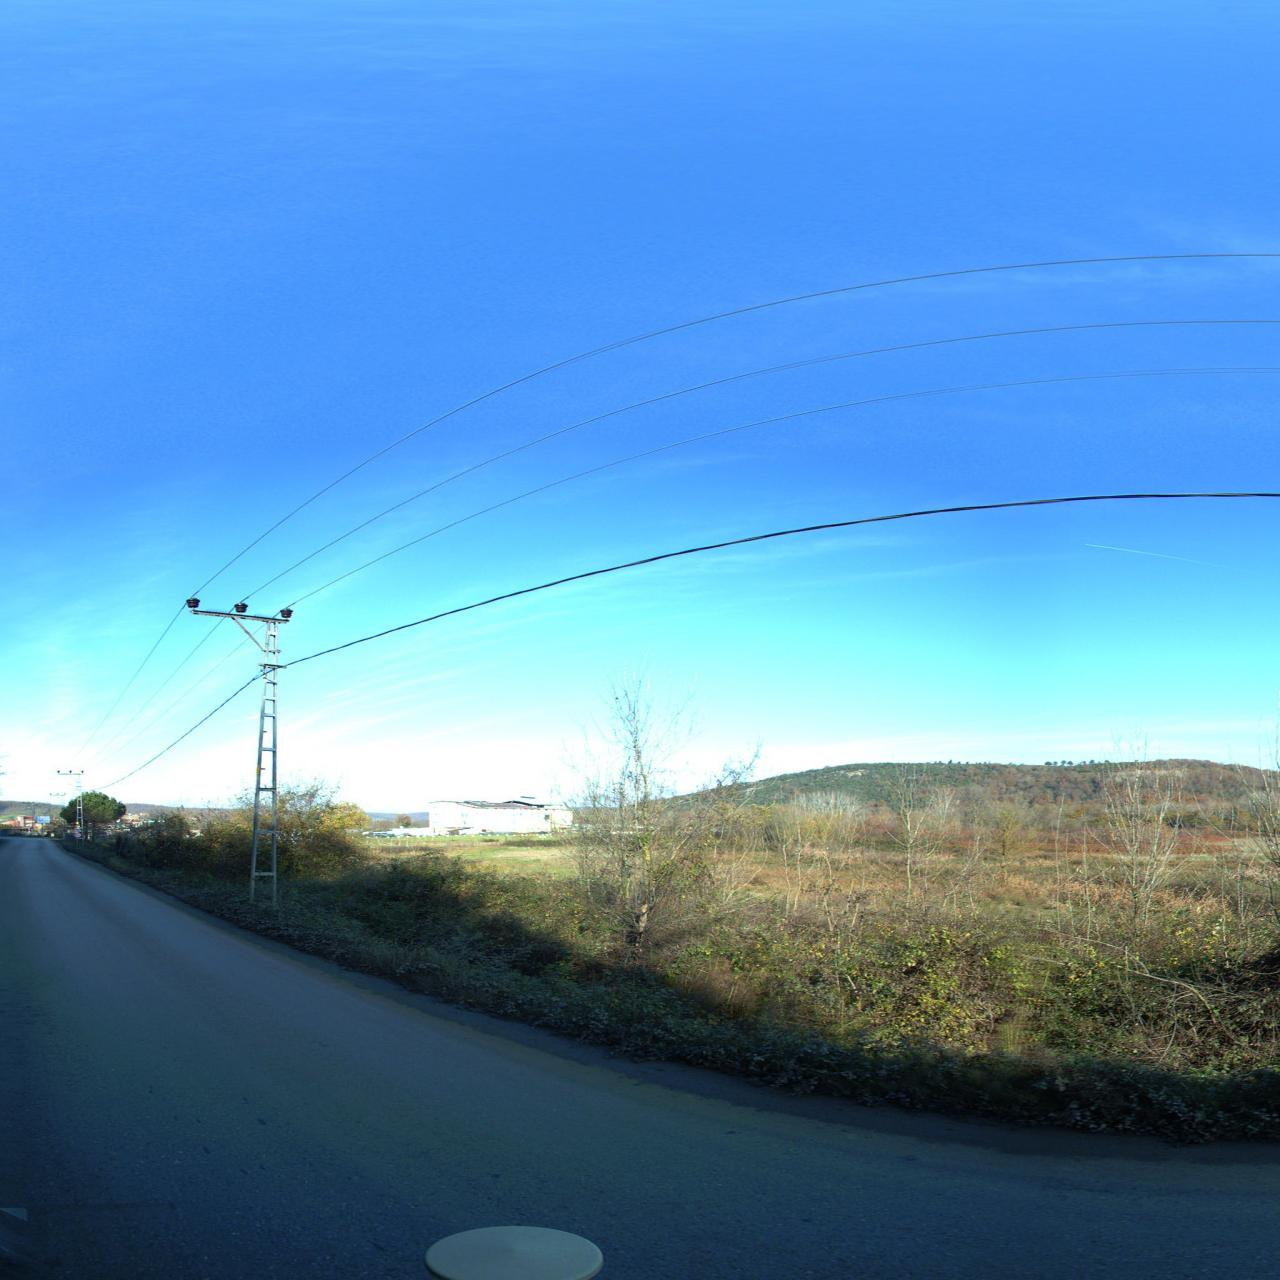Utility Pole Information Plate: (257, 765, 260, 775), (75, 822, 79, 824)
